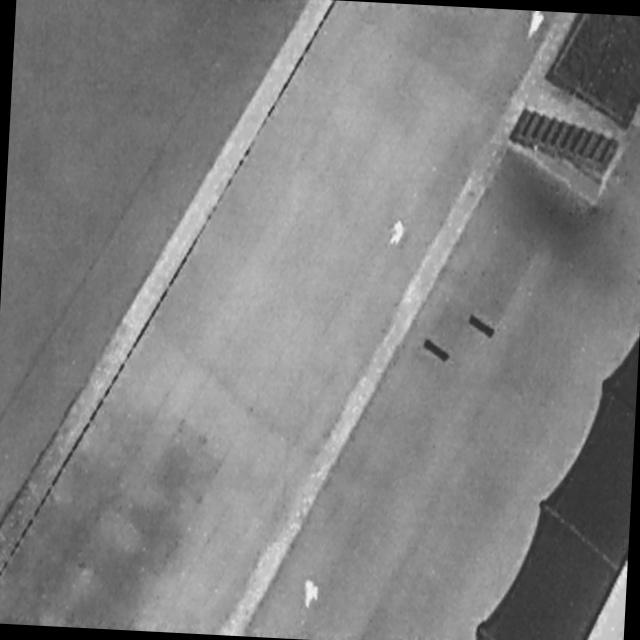person: (527, 12, 544, 42), (305, 580, 321, 611), (390, 220, 406, 248)
